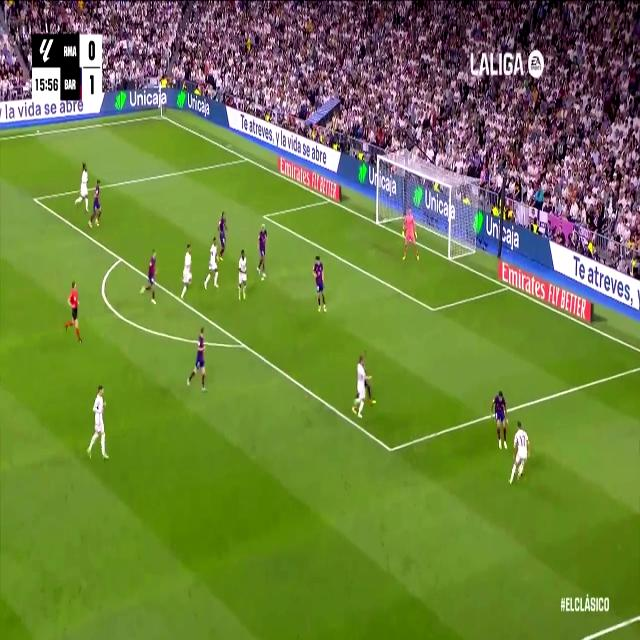bigarea_bottom_inner: (385, 437, 395, 462)
bigarea_top_inner: (32, 192, 38, 206)
bigarea_top_outter: (243, 152, 249, 164)
bottom_arc_area_intersection: (238, 333, 248, 355)
corner: (156, 110, 166, 121)
smallarea_bottom_inner: (428, 300, 438, 319)
smallarea_top_inner: (261, 209, 267, 222)
top_arc_area_intersection: (117, 251, 123, 265)
